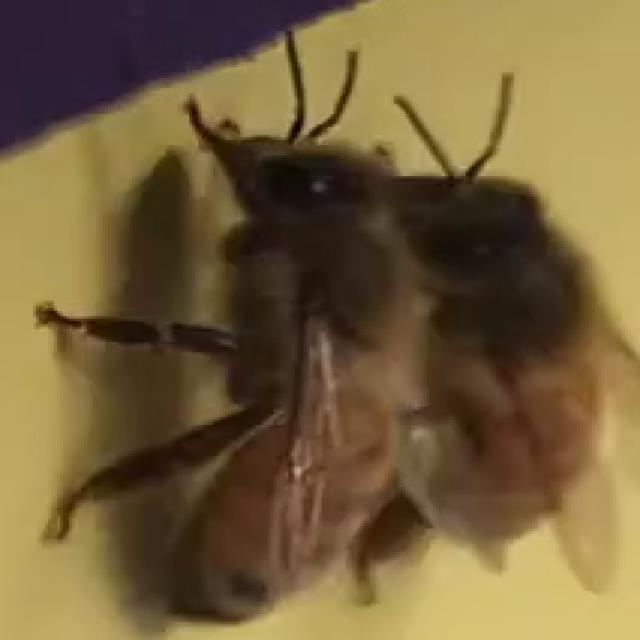honeybee: (60, 85, 393, 640), (392, 108, 640, 638)
